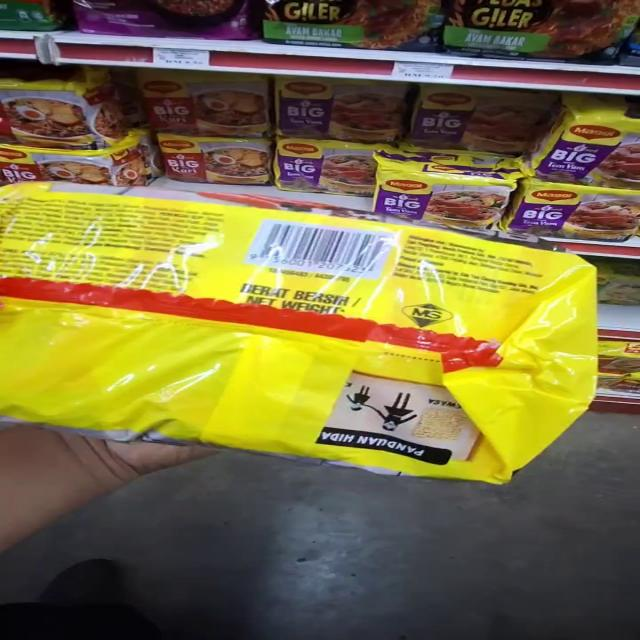Maggi: (0, 176, 581, 490), (0, 138, 169, 188), (527, 113, 640, 185), (271, 140, 382, 197), (165, 135, 274, 178)
